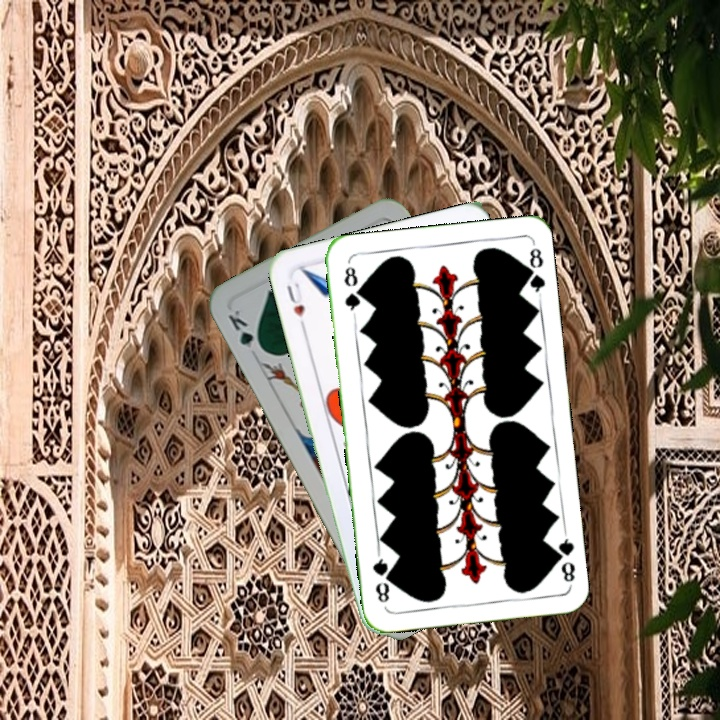G8: (549, 528, 578, 587), (340, 262, 363, 313)
GK: (224, 305, 267, 355)
HU: (282, 278, 309, 332)
